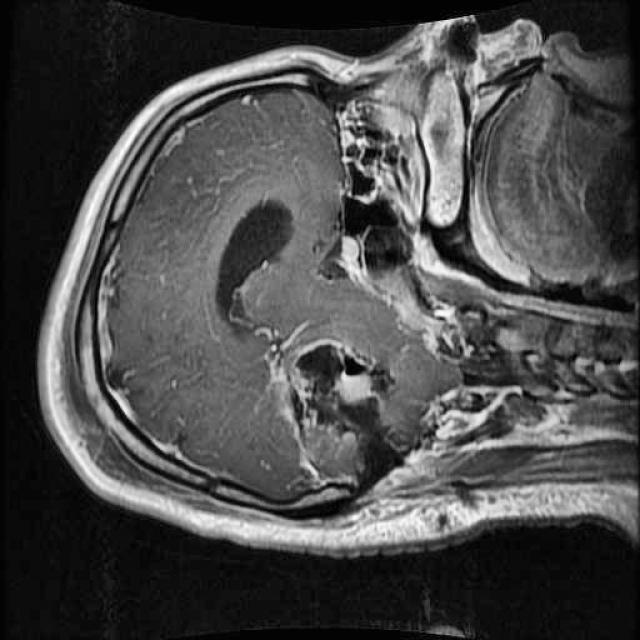Non-Tumor: (266, 325, 429, 515)
